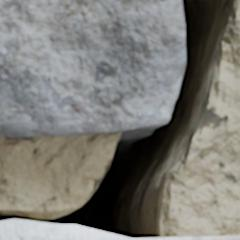brick: (0, 0, 184, 136), (0, 220, 130, 239), (146, 236, 239, 239)
crack: (0, 0, 239, 239)
